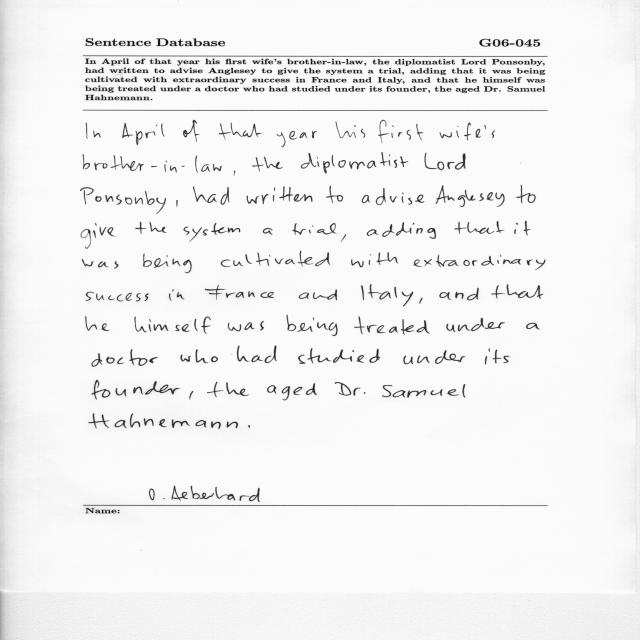word: (83, 154, 222, 173), (81, 187, 166, 214), (301, 153, 408, 174), (89, 414, 238, 429), (414, 255, 546, 270), (92, 380, 180, 400), (221, 251, 330, 267), (436, 185, 505, 207), (134, 316, 211, 334), (354, 317, 430, 335), (298, 348, 380, 364), (247, 186, 313, 204), (92, 349, 158, 367), (367, 222, 436, 239), (382, 384, 465, 398), (361, 285, 413, 307), (287, 315, 338, 336), (184, 223, 240, 242), (362, 188, 424, 205), (379, 120, 424, 143), (205, 285, 274, 300), (440, 123, 495, 141), (143, 254, 192, 274), (123, 123, 165, 145), (81, 223, 116, 249), (403, 351, 465, 365), (267, 383, 317, 400), (446, 318, 505, 332), (491, 284, 543, 299), (219, 123, 262, 141), (351, 252, 399, 267), (424, 153, 466, 170), (193, 186, 229, 205), (237, 346, 277, 363), (455, 221, 505, 234), (277, 131, 317, 147), (86, 292, 149, 302), (207, 382, 249, 397), (292, 223, 337, 235), (180, 349, 218, 363), (439, 288, 479, 301), (336, 122, 365, 139), (252, 157, 283, 172), (335, 382, 365, 396), (299, 290, 337, 301), (485, 348, 509, 365), (183, 120, 200, 142), (136, 222, 167, 234), (516, 185, 536, 203), (86, 316, 110, 331), (228, 321, 264, 331), (83, 259, 119, 268), (326, 186, 343, 203), (86, 123, 101, 139), (514, 221, 531, 235), (169, 289, 184, 301), (526, 323, 540, 329), (263, 228, 273, 235), (341, 234, 346, 242), (190, 391, 194, 400), (420, 298, 423, 304), (176, 200, 178, 207), (248, 425, 250, 428), (234, 171, 235, 176)
